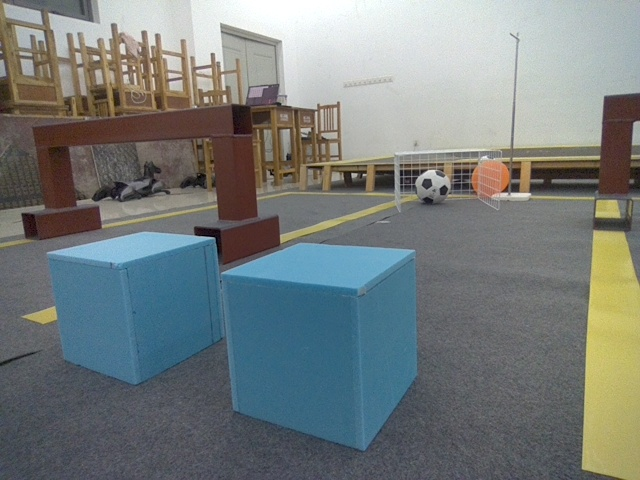football: (378, 146, 462, 220)
obstacle: (208, 207, 446, 471), (32, 193, 238, 409)
